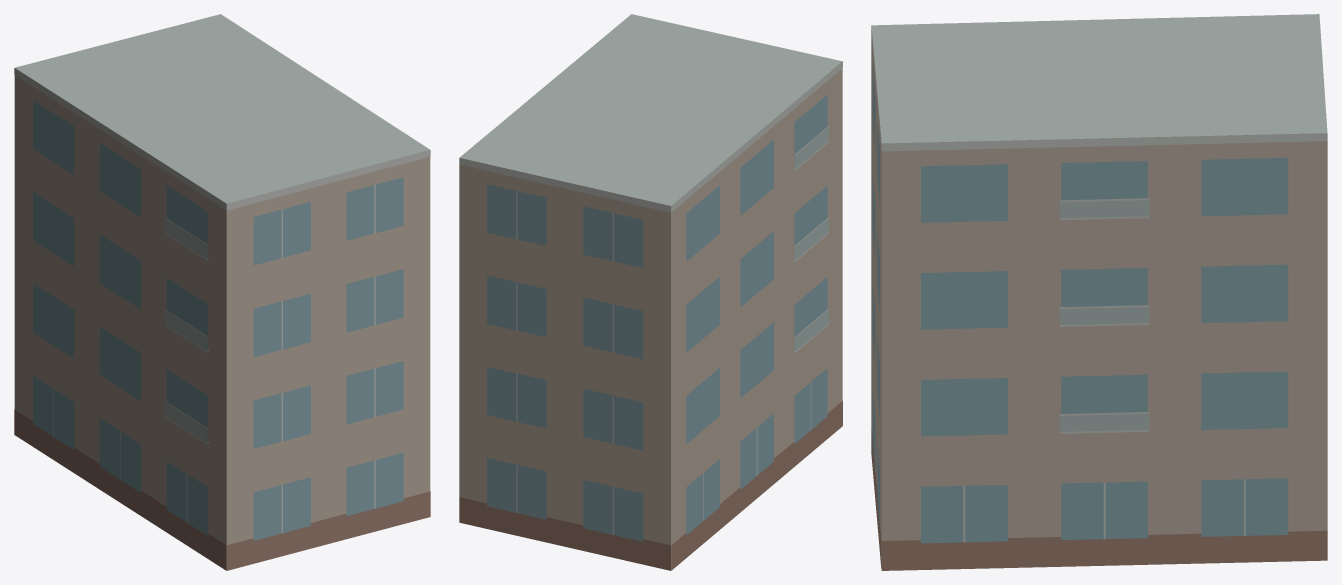
File: survey-upis-32742154.glb
3 views of the same model, side by side, from view 1: azimuth 30°, elevation 25°; view 2: azimuth 150°, elevation 25°; view 3: azimuth 270°, elevation 25° (orthographic). The views are drawn at different scales.
Visible parts, largest first — view 1: survey-upis-32742154.tmp; view 2: survey-upis-32742154.tmp; view 3: survey-upis-32742154.tmp.
Part boxes in pixels (left/top/right/bottom): survey-upis-32742154.tmp: left=14, top=14, right=430, bottom=570; survey-upis-32742154.tmp: left=459, top=14, right=842, bottom=570; survey-upis-32742154.tmp: left=871, top=14, right=1327, bottom=570.
Size of the model in its own units: 8.52 by 13.1 by 12.68.
